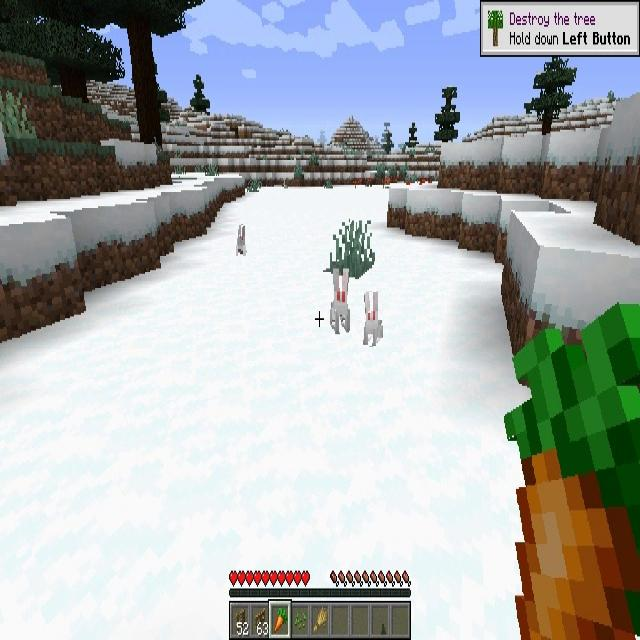rabbit: (329, 271, 351, 333), (362, 292, 383, 346), (236, 225, 246, 257)
